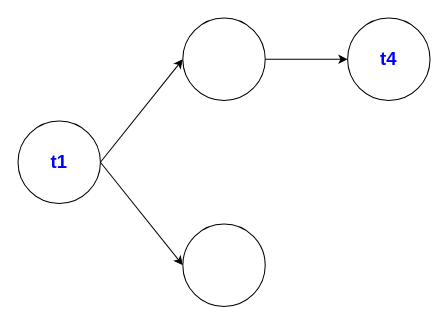
This 448x324 diagram has some shape labels left out. The shapes that lost their labels are listed below. From the top down, each one's centre as x and y in pixels, then its label:
At pixel 223 58: "t2".
At pixel 223 264: "t3".
